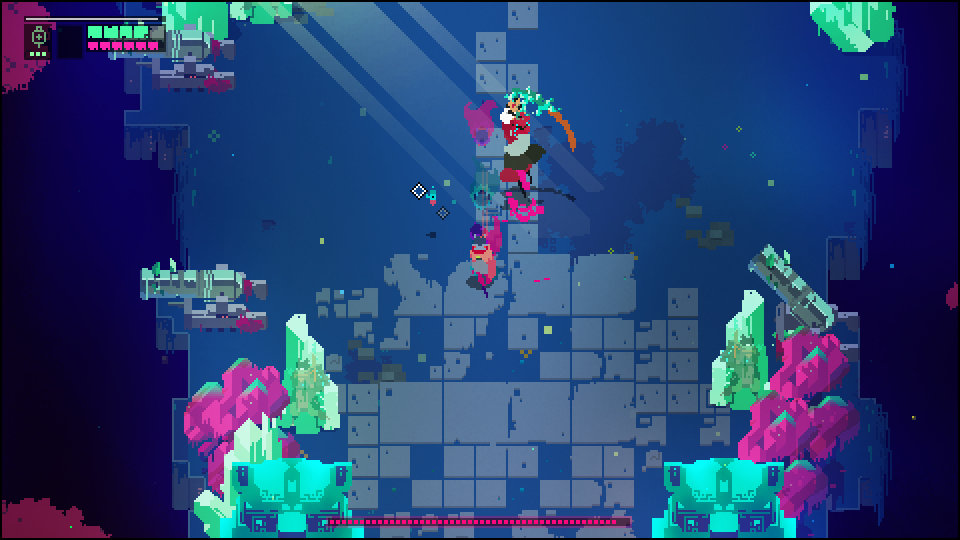hanged_man: (498, 86, 569, 197)
player: (465, 235, 500, 287)
